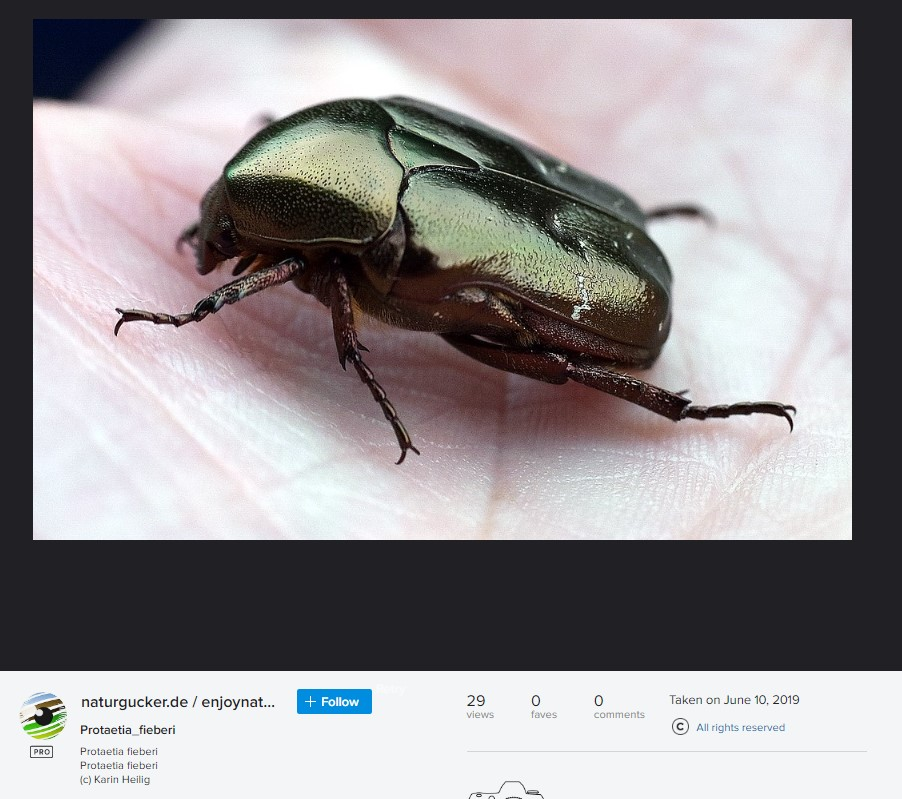Protaetia_fieberi: (107, 89, 798, 467)
